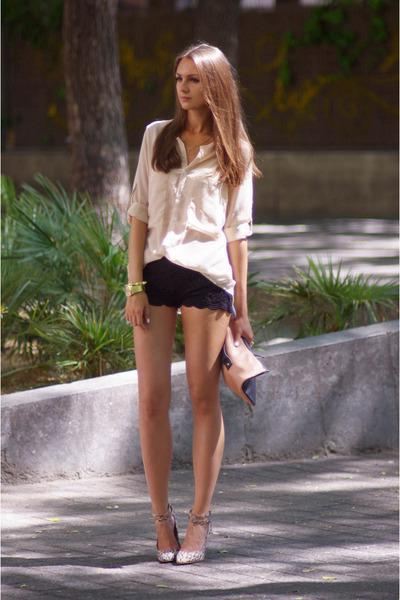short sleeve shirt: (120, 113, 258, 286)
skirt: (122, 244, 237, 319)
